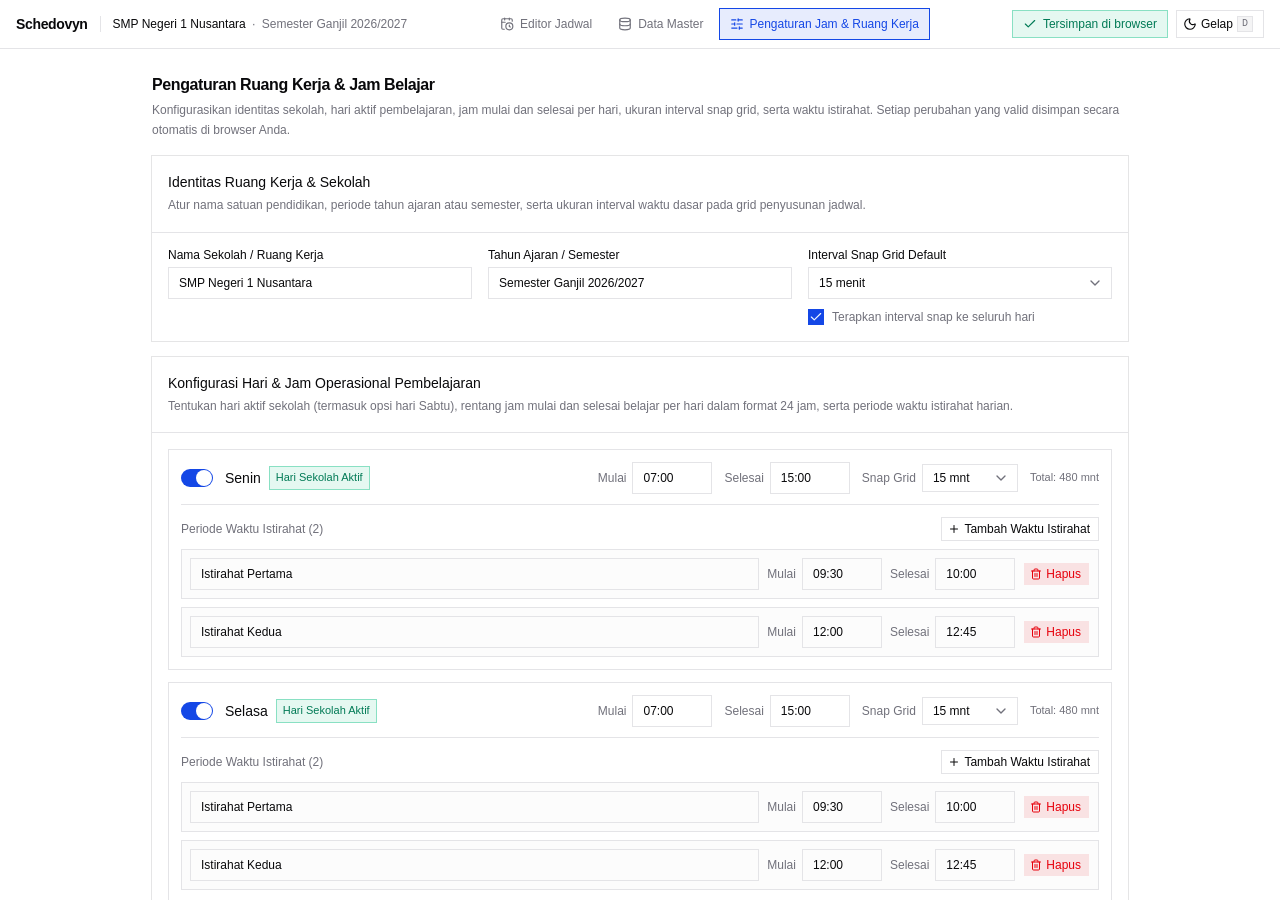
Test: FR-01: Halaman Pengaturan Ruang Kerja & Jam Belajar (SettingsPage) › mengubah nama sekolah dan mengaktifkan hari Sabtu serta memperbarui penyimpanan lokal
The width and height of the screenshot is (1280, 900).
Clear the field showing "SMP Negeri 1 Nusantara" at (320, 282), box [168,266,472,298]
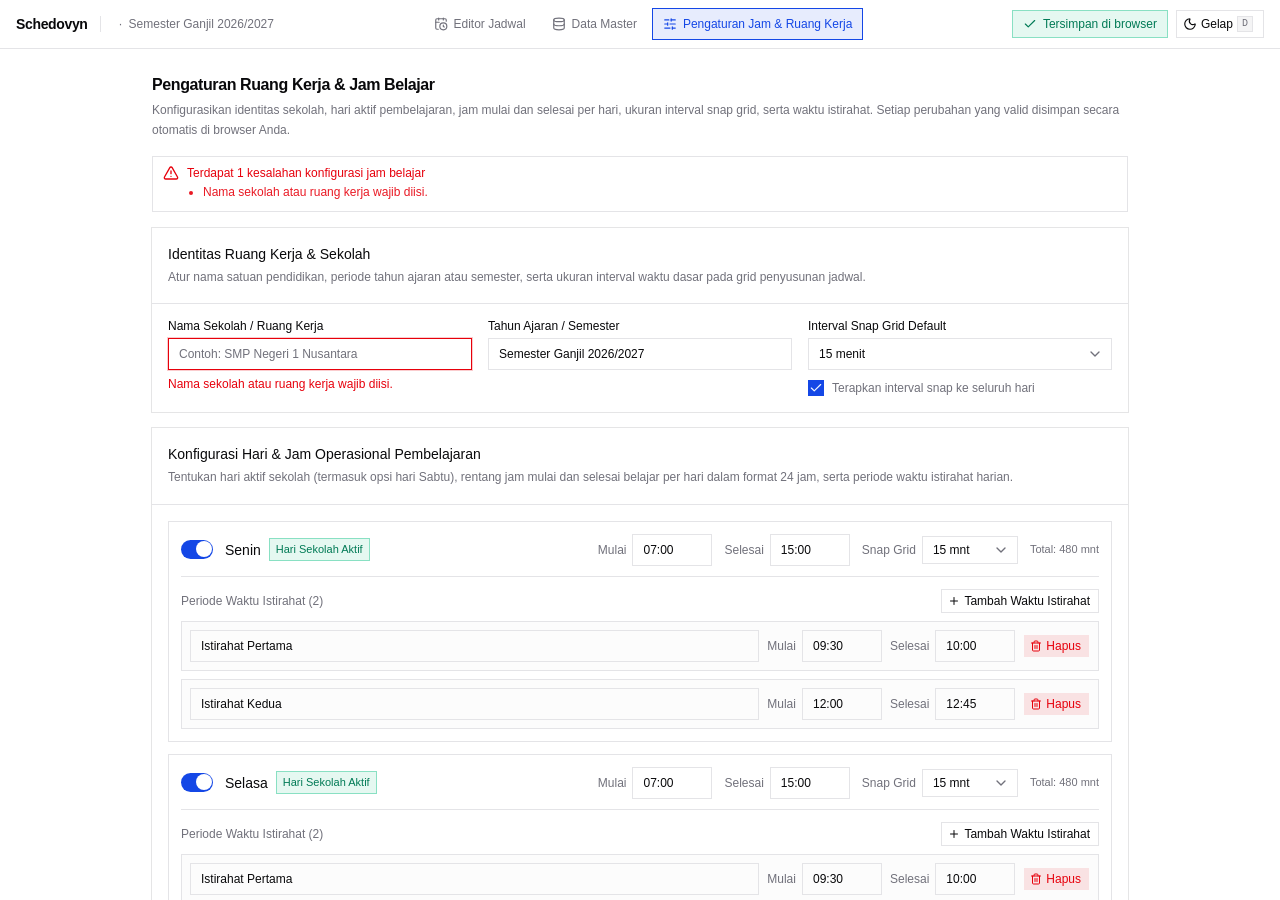
Type "SMA Negeri 2 Merdeka" into the field showing "SMP Negeri 1 Nusantara".
click(320, 354); type("SMA Negeri 2 Merdeka")  # box [168,338,472,370]
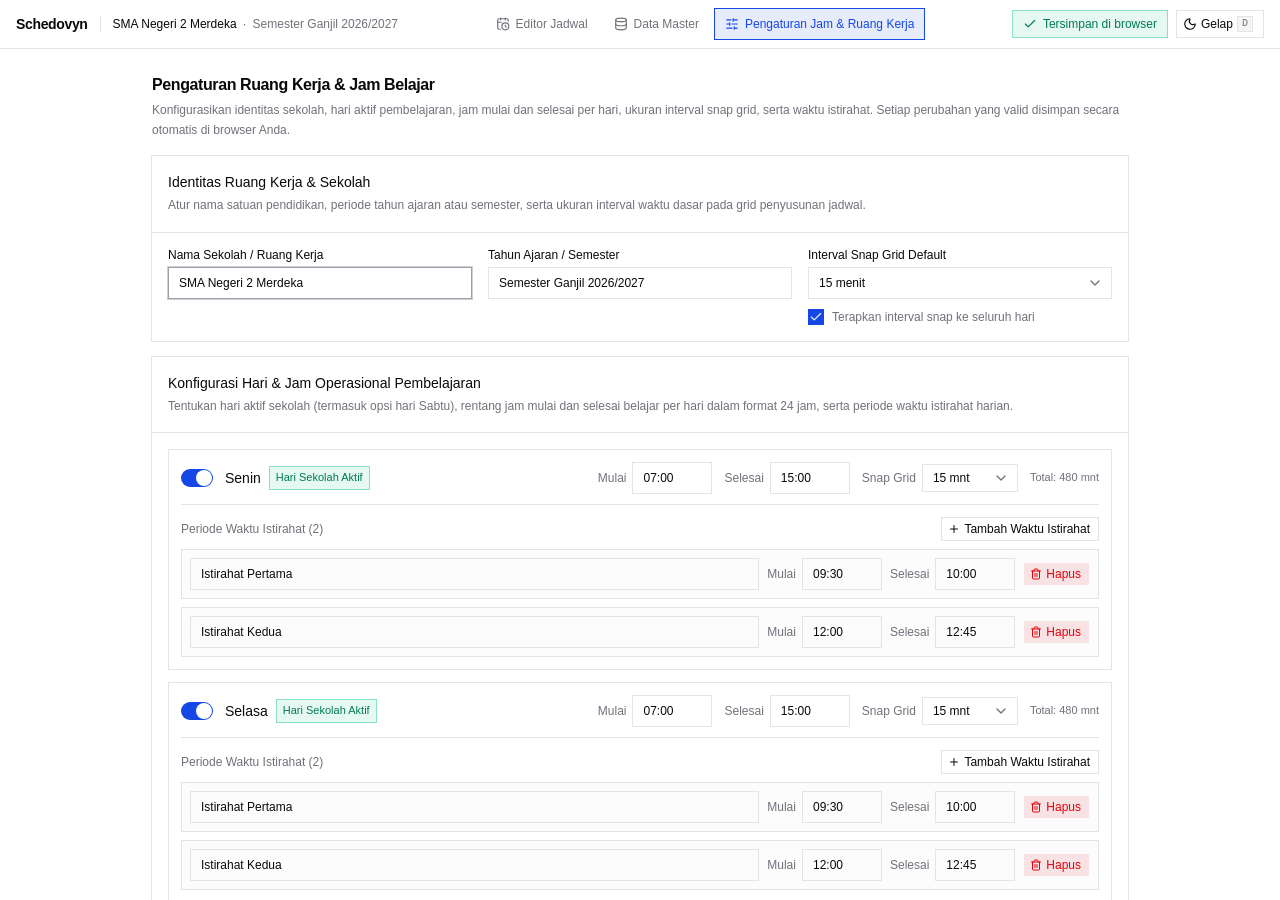
Result: the text "SMA Negeri 2 Merdeka" is shown at [112,16,237,32]
